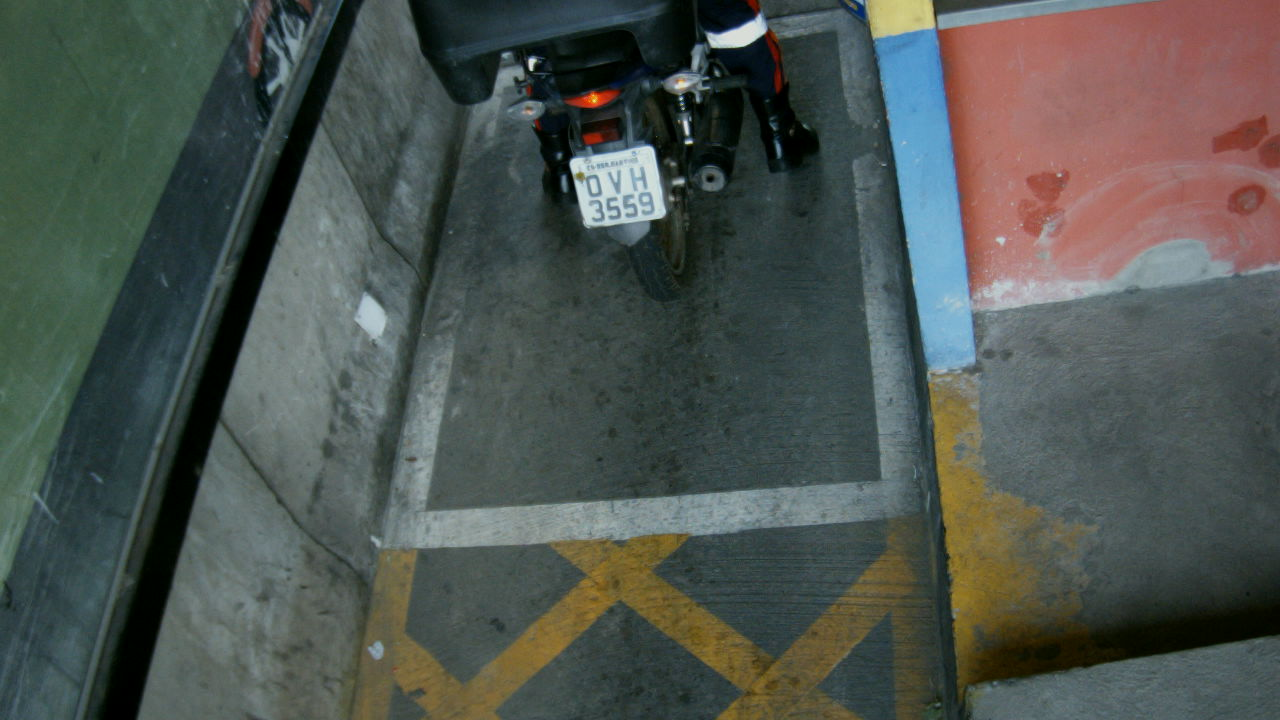placa: (569, 144, 668, 230)
